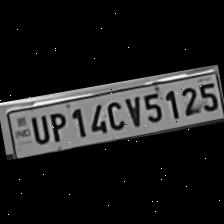1: (64, 104, 88, 140), (159, 86, 180, 120)
2: (176, 82, 200, 118)
4: (82, 100, 108, 136)
5: (138, 89, 164, 126), (194, 78, 218, 114)
C: (100, 96, 127, 134)
P: (44, 107, 70, 144)
U: (26, 111, 50, 146)
V: (120, 92, 144, 130)
